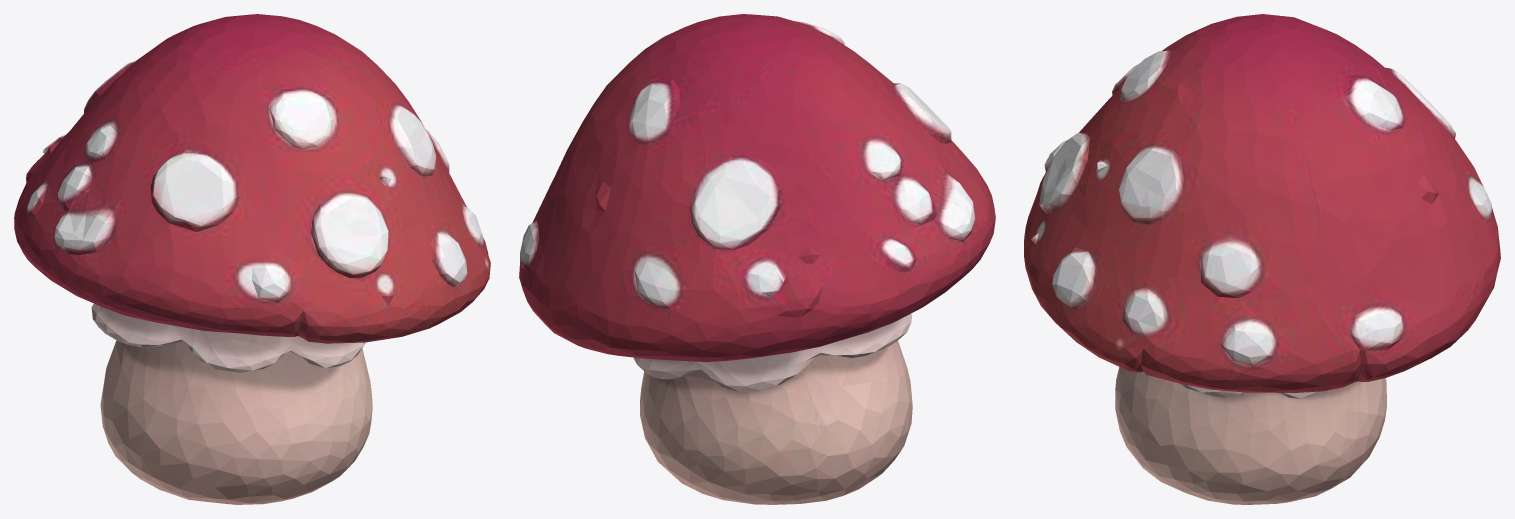
The model's file is mushroom_red.glb.
The picture shows the model from 3 angles, left to right: view 1: azimuth 30°, elevation 25°; view 2: azimuth 150°, elevation 25°; view 3: azimuth 270°, elevation 25°; orthographic projection. The views are drawn at different scales.
Parts seen in each view (by area): view 1: tmpmfnfy_gs.ply; view 2: tmpmfnfy_gs.ply; view 3: tmpmfnfy_gs.ply.
Boxes of the visible parts, x1,y1,x2,y2 form: tmpmfnfy_gs.ply: (14,14,490,504); tmpmfnfy_gs.ply: (519,14,995,504); tmpmfnfy_gs.ply: (1024,14,1500,504).
Bounding box in the file's own units: 1.96 × 1.99 × 1.93.
Materials: 1 (1 with a texture image).
